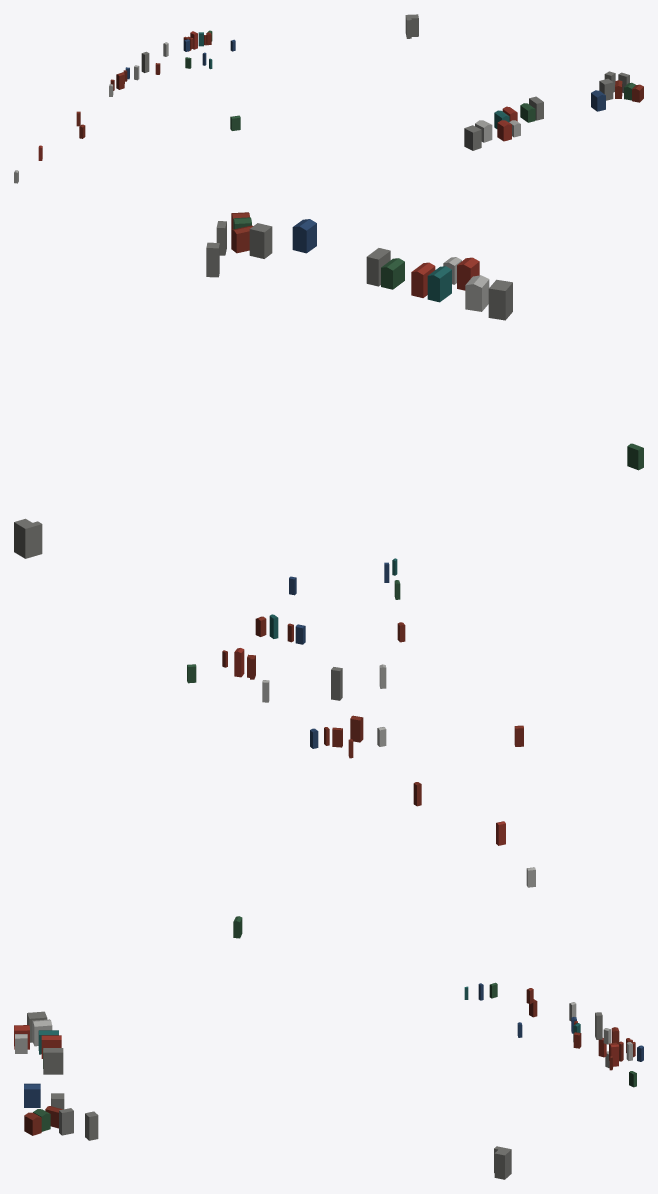
Rendered from near-16-54716-29743.b706bea9.glb.
The picture shows the model from 3 angles, top to bottom: view 1: azimuth 30°, elevation 25°; view 2: azimuth 150°, elevation 25°; view 3: azimuth 270°, elevation 25°; orthographic projection. The views are drawn at different scales.
Bounding box in the file's own units: 575 × 218 × 585.
